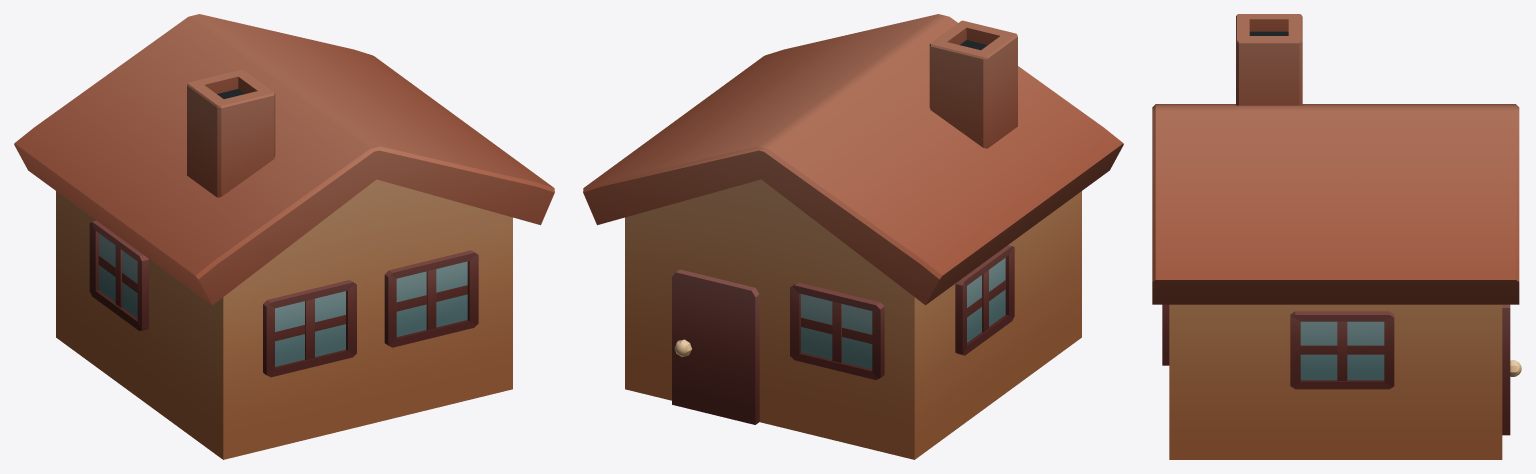
File: houseOrange.fbx
3 views of the same model, side by side, from view 1: azimuth 30°, elevation 25°; view 2: azimuth 150°, elevation 25°; view 3: azimuth 270°, elevation 25° (orthographic).
Visible parts, largest first — view 1: HouseOrange; view 2: HouseOrange; view 3: HouseOrange.
Boxes of the visible parts, x1,y1,x2,y2 form: HouseOrange: [14, 14, 554, 459]; HouseOrange: [583, 14, 1123, 459]; HouseOrange: [1152, 14, 1521, 459].
Size of the model in its own units: 6.2 by 5.3 by 5.55.
